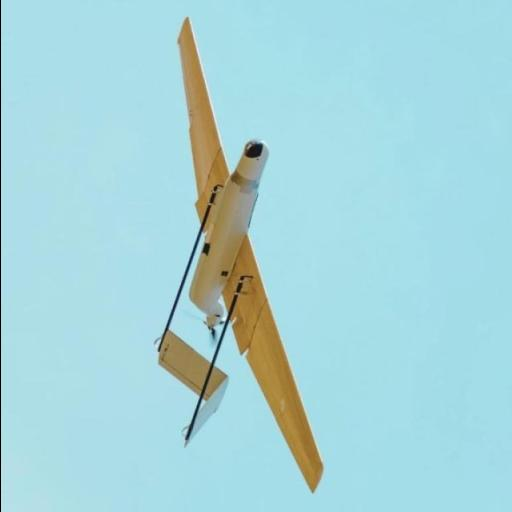uav: (142, 2, 330, 502)
